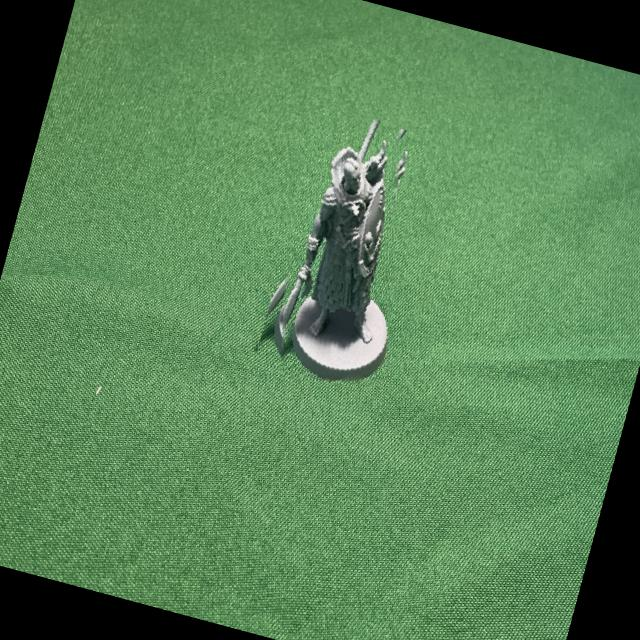isis_follower: (240, 100, 440, 397)
